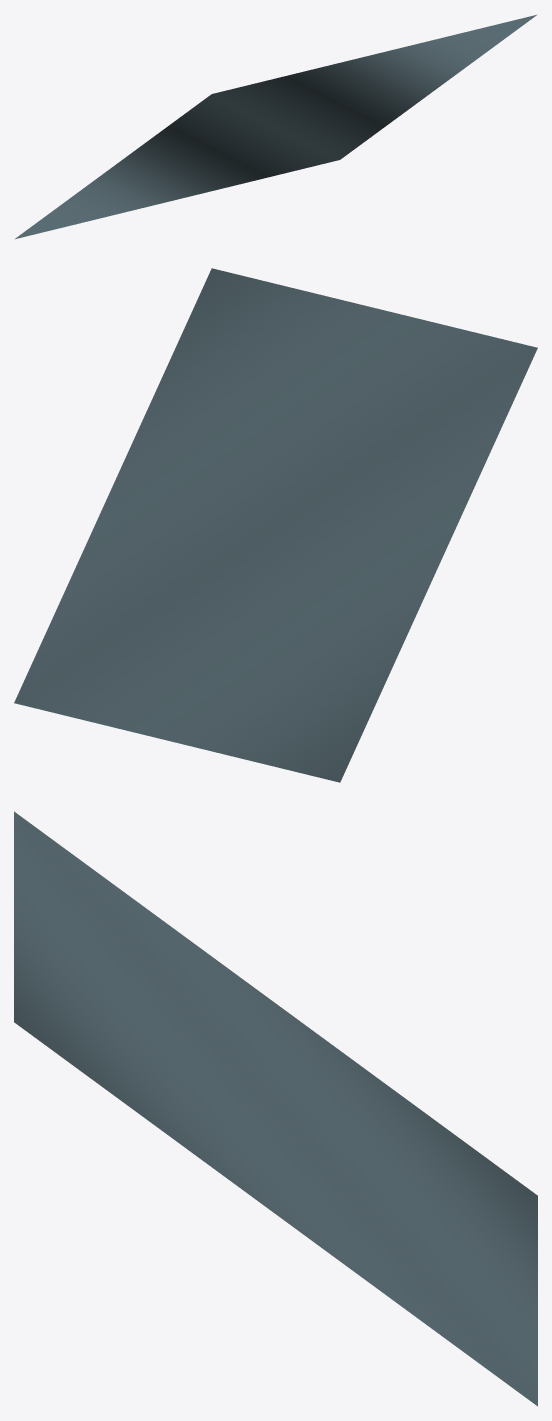
The model's file is FacadeKit_Canopy_LOD0.glb.
3 views of the same model, one above another, from view 1: azimuth 30°, elevation 25°; view 2: azimuth 150°, elevation 25°; view 3: azimuth 270°, elevation 25° (orthographic). The views are drawn at different scales.
Parts seen in each view (by area): view 1: FacadeKit_Canopy_LOD0; view 2: FacadeKit_Canopy_LOD0; view 3: FacadeKit_Canopy_LOD0.
Boxes of the visible parts, x1,y1,x2,y2 form: FacadeKit_Canopy_LOD0: (14,14,537,239); FacadeKit_Canopy_LOD0: (14,268,537,782); FacadeKit_Canopy_LOD0: (14,811,537,1406).
Bounding box in the file's own units: 1 × 0.85 × 1.05.
